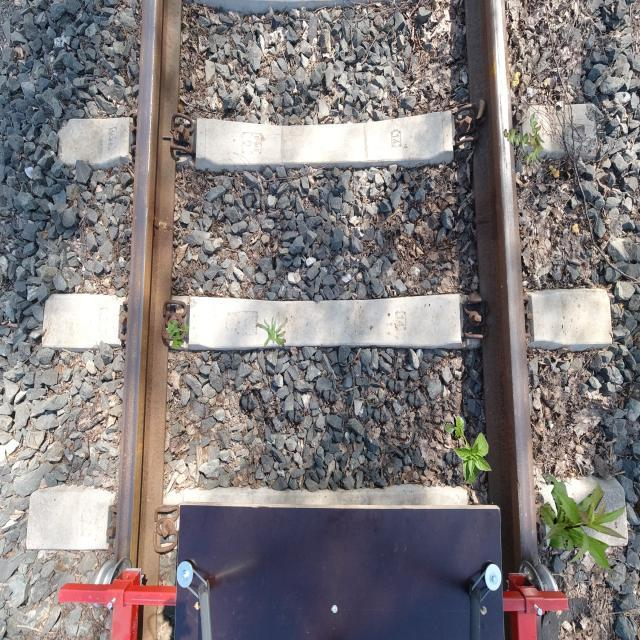Plant: (540, 473, 628, 570), (445, 414, 493, 485), (503, 113, 544, 167), (255, 313, 288, 348), (166, 319, 190, 349)
